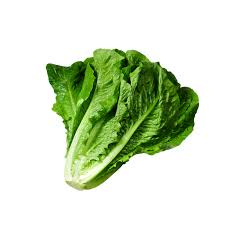lettuce: (51, 50, 185, 183)
